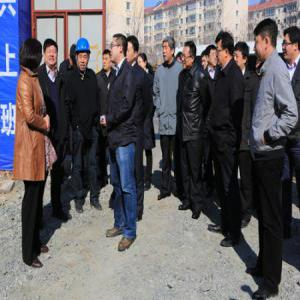blue: (75, 38, 93, 73)
none: (254, 18, 278, 64), (20, 38, 44, 77), (215, 31, 237, 70), (283, 27, 300, 66), (110, 34, 128, 68), (232, 40, 250, 71), (44, 37, 59, 70), (182, 41, 198, 70), (162, 37, 177, 66), (126, 36, 140, 66), (206, 44, 219, 70), (101, 49, 114, 73), (137, 52, 148, 70), (202, 51, 210, 72)
